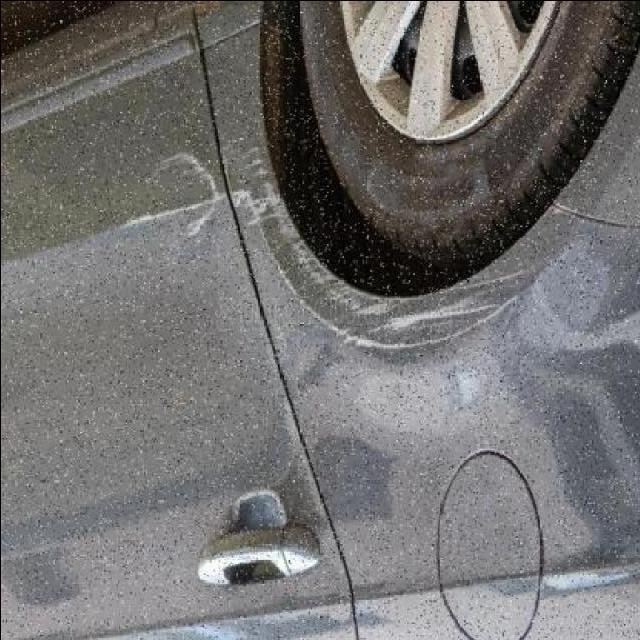doorouter-dent: (1, 103, 241, 640)
quaterpanel-dent: (330, 163, 640, 640), (256, 0, 638, 320)
